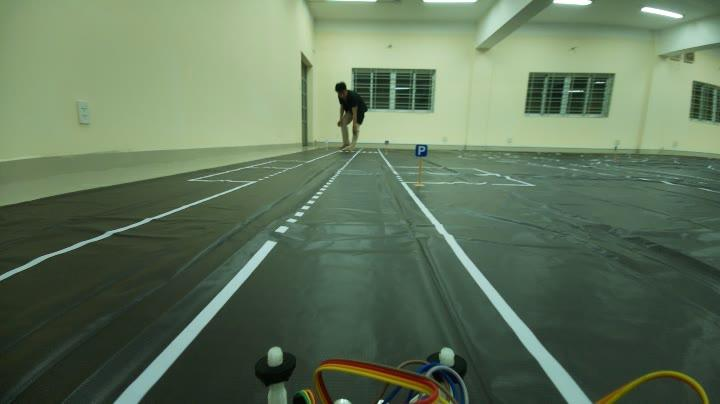parking: (410, 137, 427, 159)
